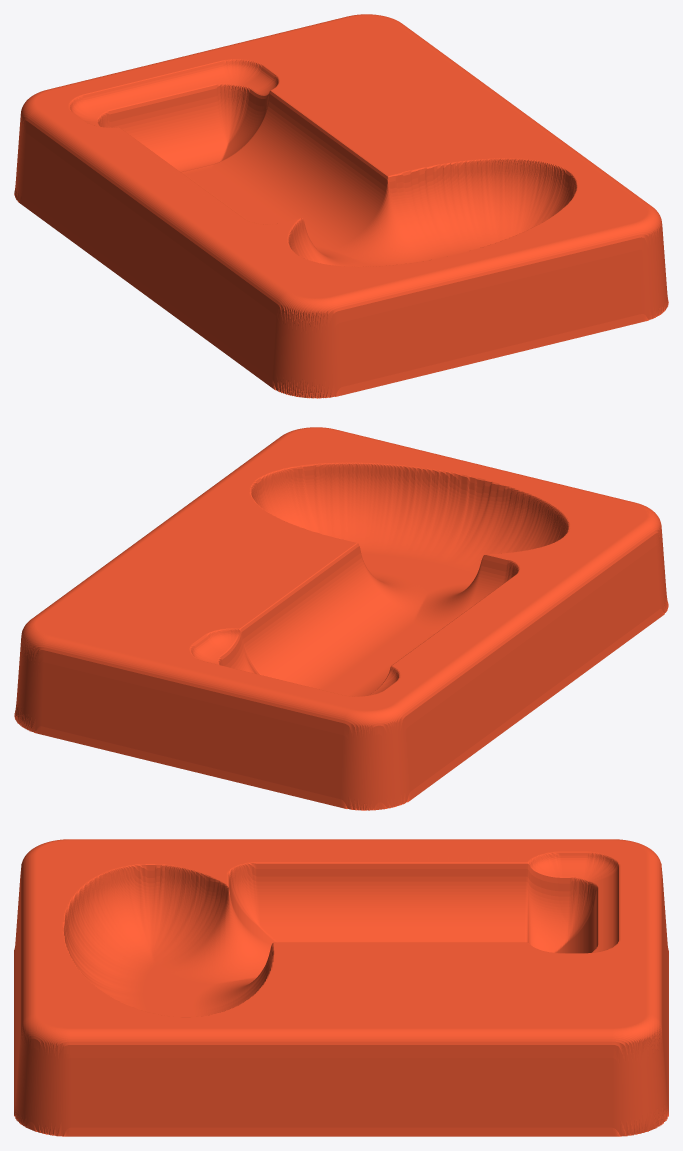
File: mold.glb
3 renders of one model, top to bottom at view 1: azimuth 30°, elevation 25°; view 2: azimuth 150°, elevation 25°; view 3: azimuth 270°, elevation 25°, orthographic. The views are drawn at different scales.
Visible parts, largest first — view 1: geometry_0; view 2: geometry_0; view 3: geometry_0.
Part boxes in pixels (box(x1,y1,x2,y2)): geometry_0: box(14, 14, 668, 398); geometry_0: box(14, 427, 668, 810); geometry_0: box(14, 839, 668, 1136).
Bounding box in the file's own units: 0.0784 × 0.0175 × 0.105.
